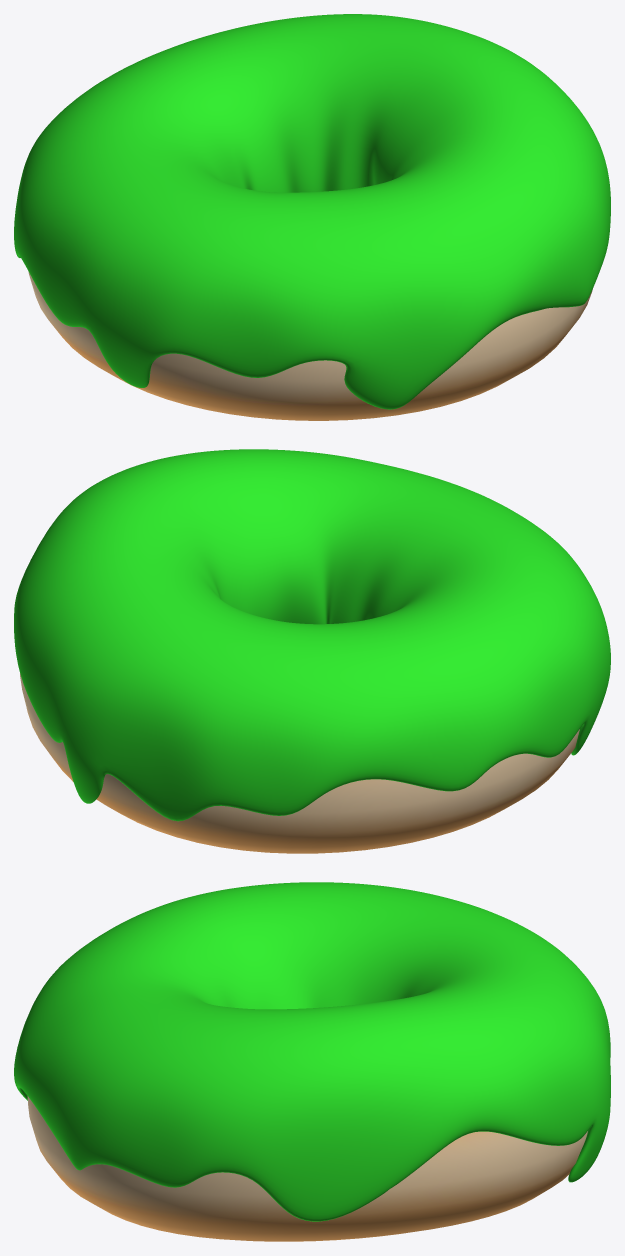
The model's file is DONUT.glb.
3 renders of one model, top to bottom at view 1: azimuth 30°, elevation 25°; view 2: azimuth 150°, elevation 25°; view 3: azimuth 270°, elevation 25°, orthographic. The views are drawn at different scales.
Parts seen in each view (by area): view 1: Icing.001, Donut.001; view 2: Icing.001, Donut.001; view 3: Icing.001, Donut.001.
Boxes of the visible parts, x1,y1,x2,y2 form: Icing.001: [14, 14, 610, 409]; Donut.001: [28, 271, 592, 420]; Icing.001: [14, 449, 610, 821]; Donut.001: [20, 673, 579, 853]; Icing.001: [14, 882, 610, 1221]; Donut.001: [27, 1096, 587, 1241].
Bounding box in the file's own units: 0.1202 × 0.0537 × 0.1239.
2 materials, 1 textured.
